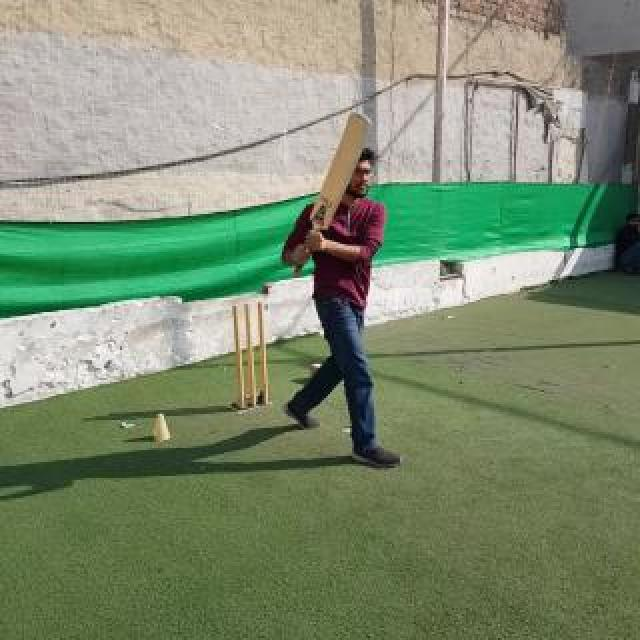bat: (292, 112, 372, 278)
